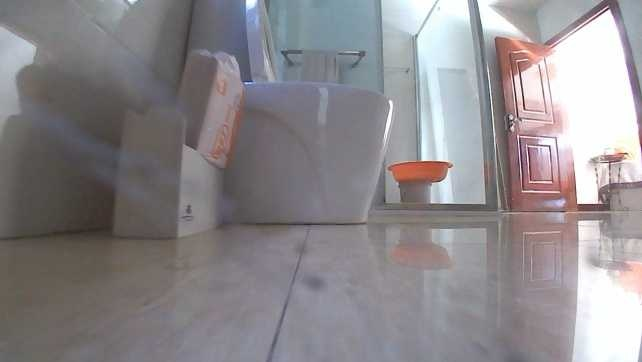toilet: (185, 0, 397, 226)
